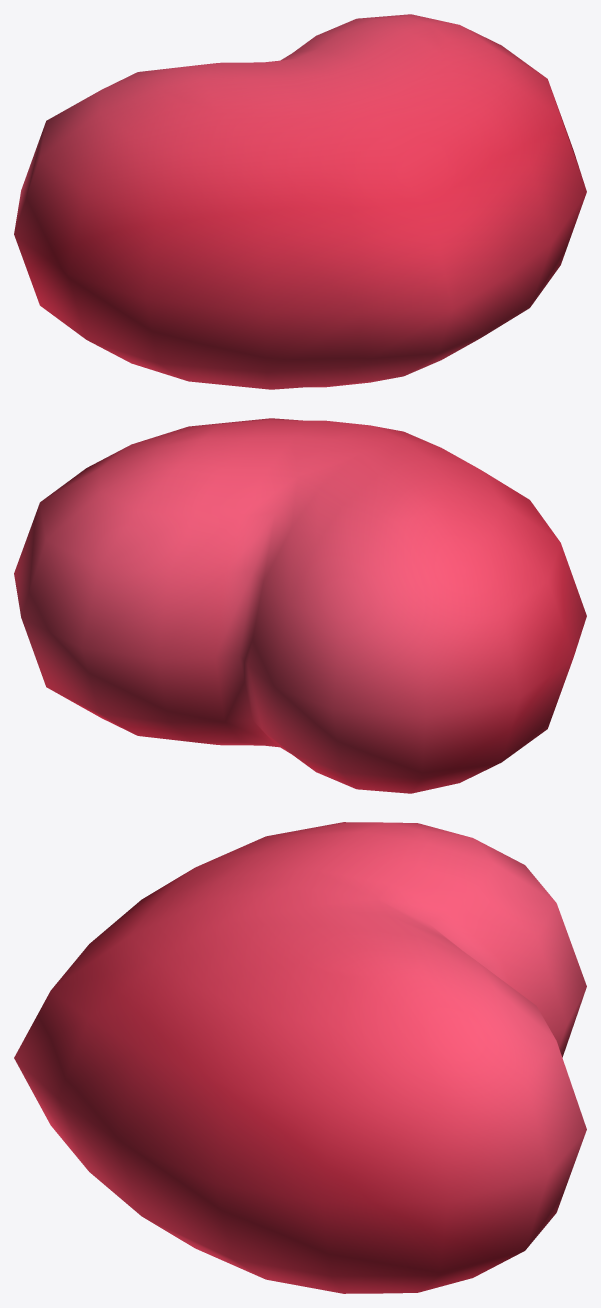
Rendered from Heart.FBX.
The picture shows the model from 3 angles, top to bottom: view 1: azimuth 30°, elevation 25°; view 2: azimuth 150°, elevation 25°; view 3: azimuth 270°, elevation 25°; orthographic projection. The views are drawn at different scales.
Visible parts, largest first — view 1: Heart; view 2: Heart; view 3: Heart.
Part boxes in pixels (x1=…): Heart: x1=14, y1=14, x2=586, y2=389; Heart: x1=14, y1=418, x2=586, y2=793; Heart: x1=14, y1=822, x2=586, y2=1293.
Size of the model in its own units: 39.96 by 22.11 by 33.57.
Materials: 1 (1 with a texture image).
